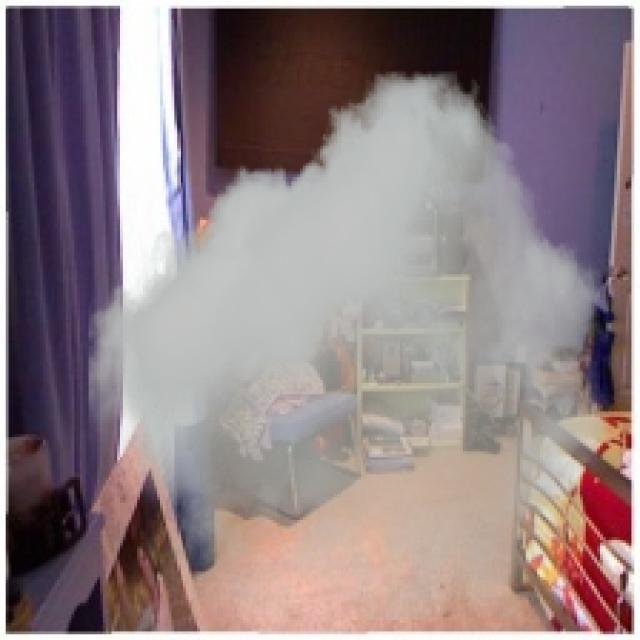smoke: (89, 71, 608, 620)
